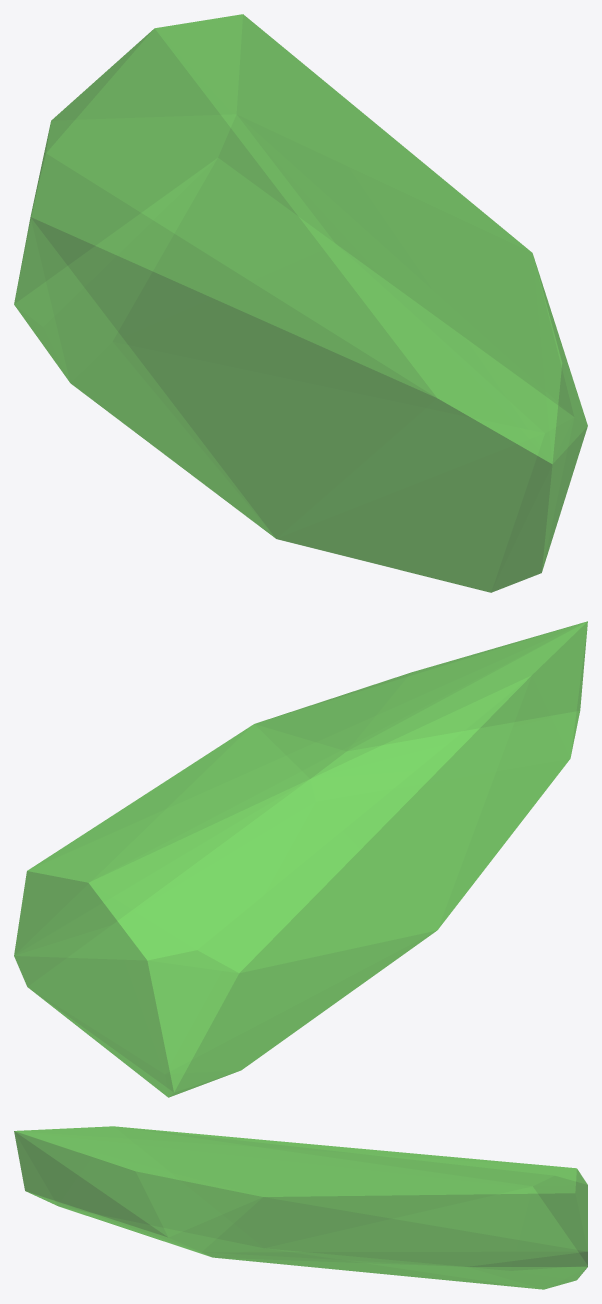
The picture shows the model from 3 angles, top to bottom: view 1: azimuth 30°, elevation 25°; view 2: azimuth 150°, elevation 25°; view 3: azimuth 270°, elevation 25°; orthographic projection. The views are drawn at different scales.
Visible parts, largest first — view 1: Shape_IndexedFaceSet.014_Shape_IndexedFaceSet.15627; view 2: Shape_IndexedFaceSet.014_Shape_IndexedFaceSet.15627; view 3: Shape_IndexedFaceSet.014_Shape_IndexedFaceSet.15627.
Boxes of the visible parts, x1,y1,x2,y2 form: Shape_IndexedFaceSet.014_Shape_IndexedFaceSet.15627: (14, 14, 587, 592); Shape_IndexedFaceSet.014_Shape_IndexedFaceSet.15627: (14, 621, 587, 1097); Shape_IndexedFaceSet.014_Shape_IndexedFaceSet.15627: (14, 1126, 587, 1289).
Bounding box in the file's own units: 0.1339 × 0.1266 × 0.4704.
